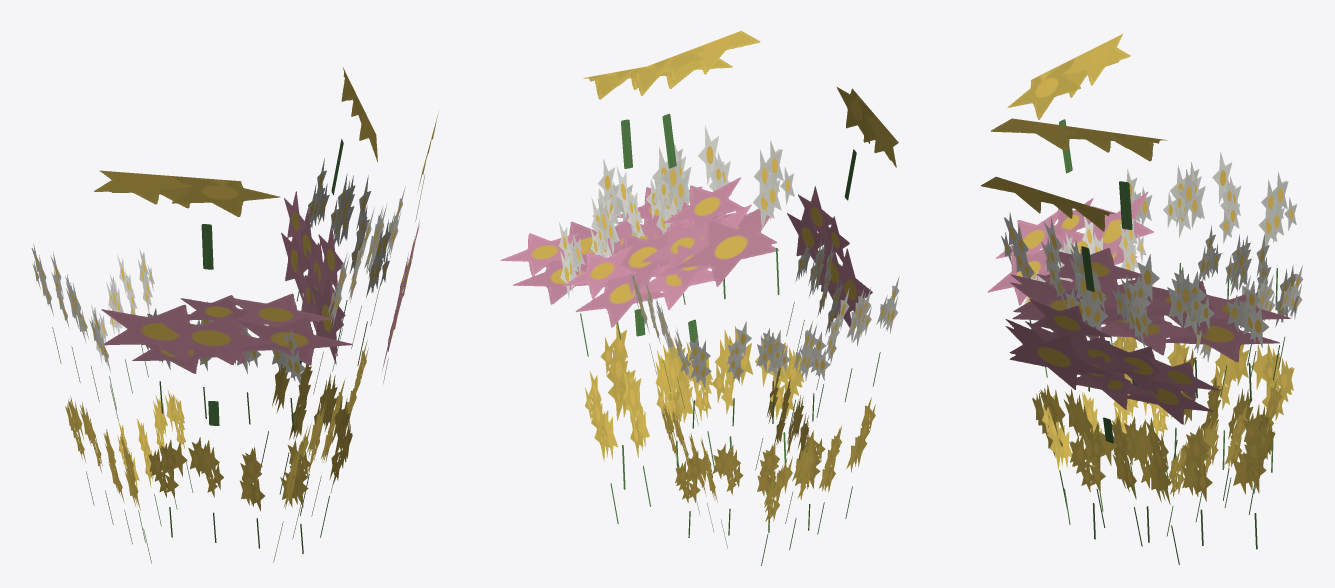
File: flower-pink.glb
3 views of the same model, side by side, from view 1: azimuth 30°, elevation 25°; view 2: azimuth 150°, elevation 25°; view 3: azimuth 270°, elevation 25° (orthographic). The views are drawn at different scales.
Parts seen in each view (by area): view 1: flower-clump; view 2: flower-clump; view 3: flower-clump.
Part boxes in pixels (bbox=[...]): flower-clump: bbox=[31, 67, 437, 563]; flower-clump: bbox=[500, 31, 899, 565]; flower-clump: bbox=[981, 34, 1302, 564].
Size of the model in its own units: 0.6777 by 0.6378 by 0.5052.
Materials: 1 (1 with a texture image).
